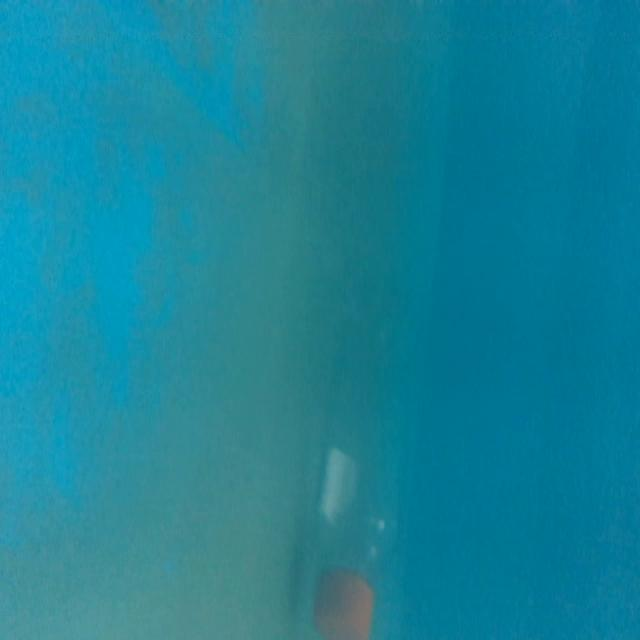plastic bottle: (292, 273, 437, 640)
